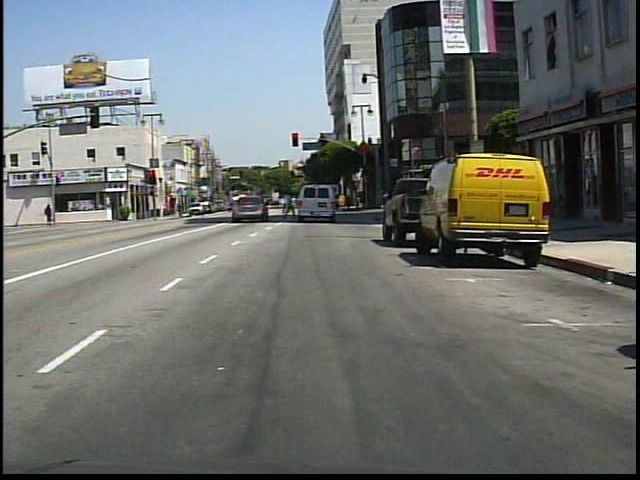person: (281, 191, 299, 223), (278, 194, 292, 218), (44, 204, 54, 224)
